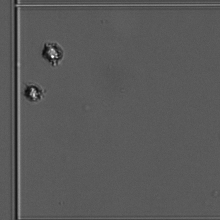Living Cell: (38, 40, 68, 70), (22, 82, 46, 106)
